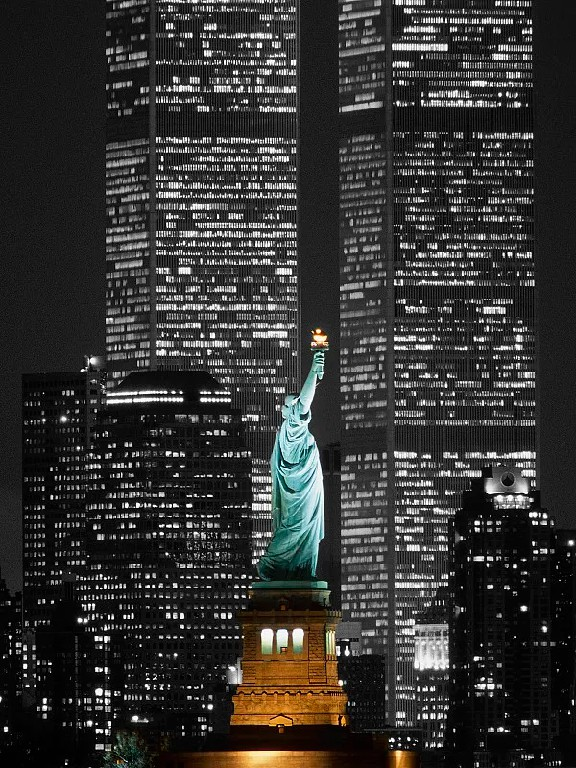SL: (231, 328, 349, 725)
